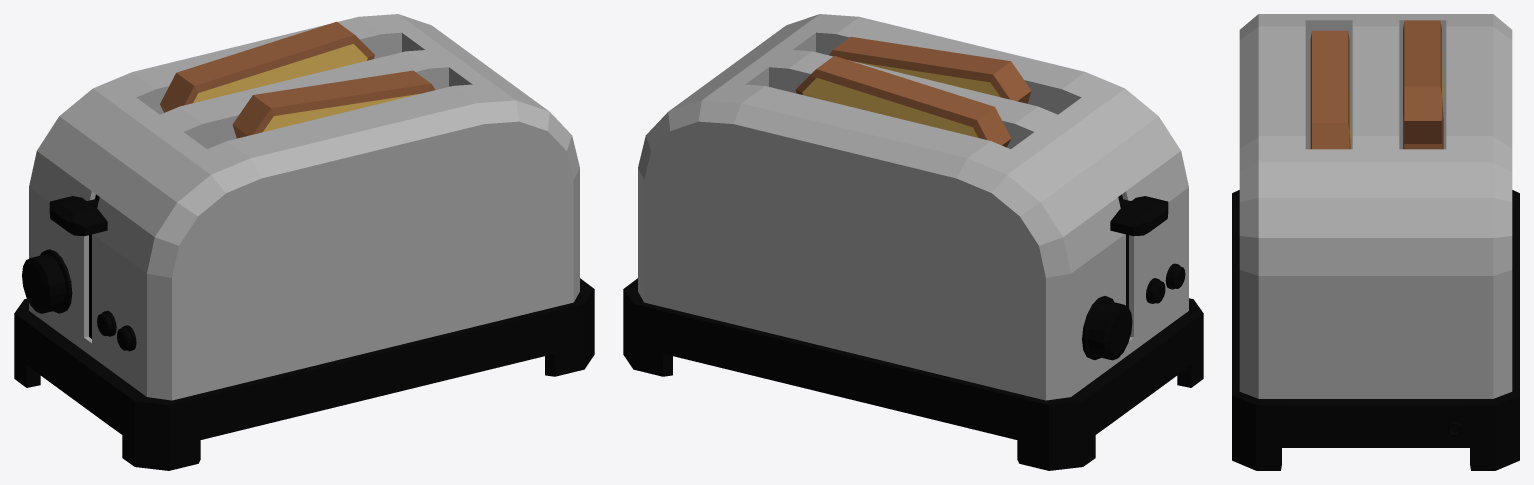
Rendered from Toaster.fbx.
The picture shows the model from 3 angles, left to right: view 1: azimuth 30°, elevation 25°; view 2: azimuth 150°, elevation 25°; view 3: azimuth 270°, elevation 25°; orthographic projection.
Parts seen in each view (by area): view 1: Cube, Cube.004, Cube.003, Cylinder, Cube.001; view 2: Cube, Cube.004, Cube.003, Cylinder, Cube.001; view 3: Cube, Cube.004, Cube.003.
Part boxes in pixels (x1,y1,x2,y2): Cube: (14, 14, 594, 470); Cube.004: (160, 21, 374, 112); Cube.003: (232, 70, 435, 138); Cylinder: (22, 249, 72, 313); Cube.001: (49, 196, 107, 236); Cube: (623, 14, 1203, 470); Cube.004: (795, 56, 1011, 147); Cube.003: (829, 36, 1031, 103); Cylinder: (1082, 296, 1132, 360); Cube.001: (1110, 196, 1168, 236); Cube: (1232, 14, 1519, 470); Cube.004: (1403, 20, 1443, 149); Cube.003: (1310, 30, 1350, 149).
Bounding box in the file's own units: 580 × 356 × 305.
